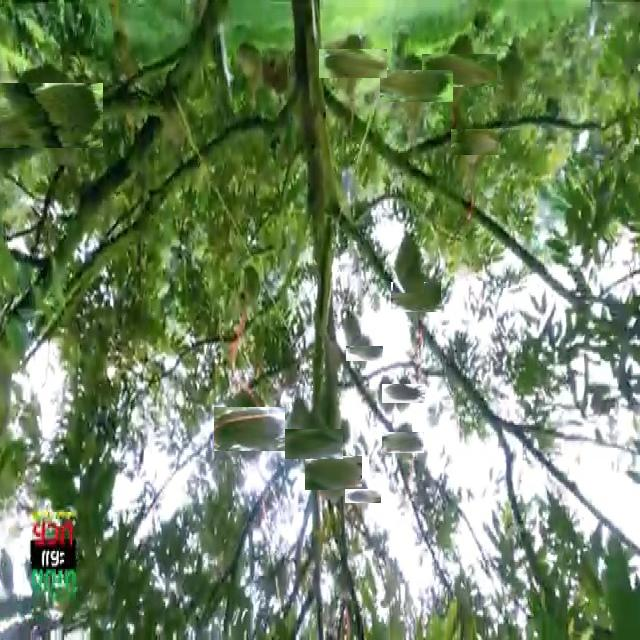durian: (4, 71, 92, 160), (220, 400, 278, 458), (432, 43, 487, 97), (390, 60, 443, 113), (328, 39, 377, 88), (310, 450, 356, 496), (292, 421, 336, 466), (393, 233, 424, 293), (396, 277, 437, 317), (234, 37, 265, 88), (456, 124, 492, 160), (387, 427, 419, 459), (388, 378, 419, 409), (376, 374, 396, 416), (243, 264, 262, 306), (352, 340, 378, 367), (350, 483, 376, 508)
